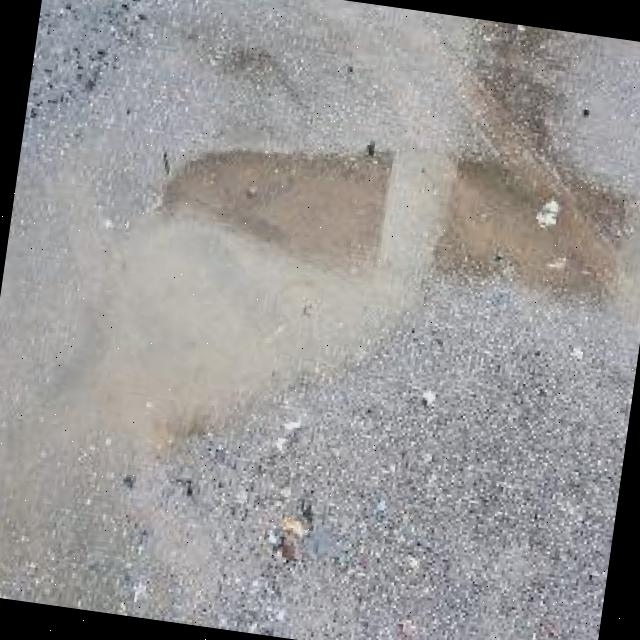waterlogging: (145, 111, 640, 319)
